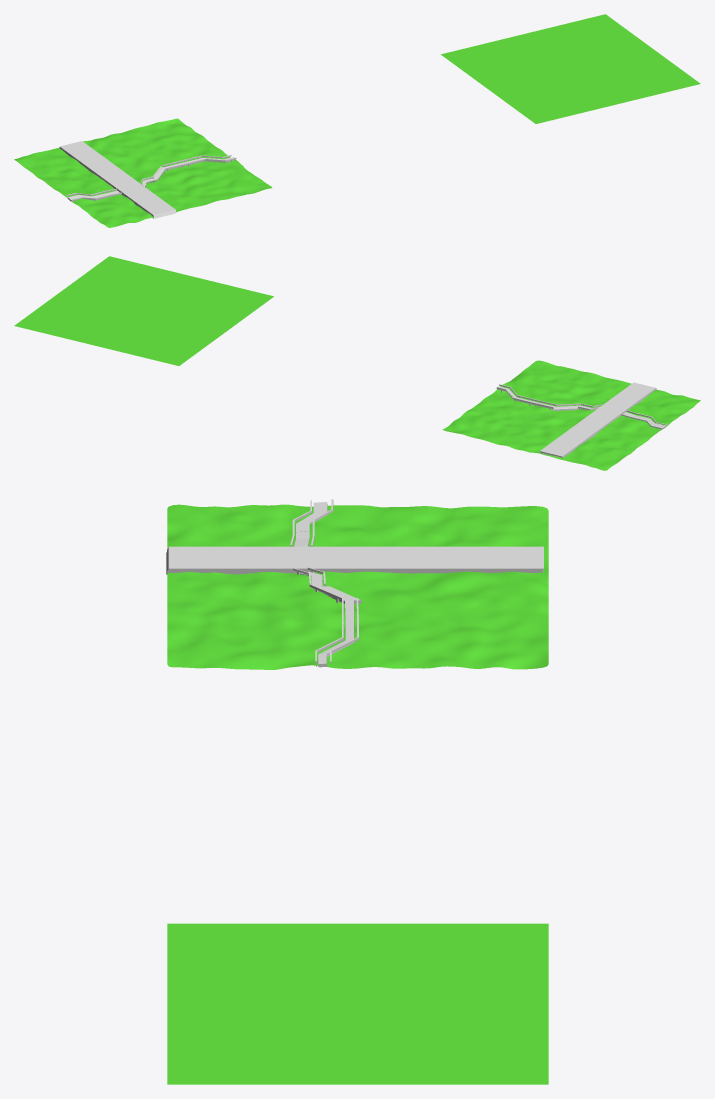
File: parkundfluss.dae
The picture shows the model from 3 angles, top to bottom: view 1: azimuth 30°, elevation 25°; view 2: azimuth 150°, elevation 25°; view 3: azimuth 270°, elevation 25°; orthographic projection. The views are drawn at different scales.
Parts seen in each view (by area): view 1: Plane_001, Plane, Plane_003, Cube_003; view 2: Plane_001, Plane, Plane_003, Cube_003; view 3: Plane_001, Plane, Plane_003.
Boxes of the visible parts, x1,y1,x2,y2 form: Plane_001: (441,14,700,123); Plane: (14,118,272,227); Plane_003: (59,141,175,216); Cube_003: (145,155,236,186); Plane_001: (14,256,273,365); Plane: (442,360,700,470); Plane_003: (540,382,656,457); Cube_003: (497,384,601,407); Plane_001: (167,923,548,1084); Plane: (167,504,548,669); Plane_003: (167,546,543,571).
Bounding box in the file's own units: 452 × 126 × 3.81.
